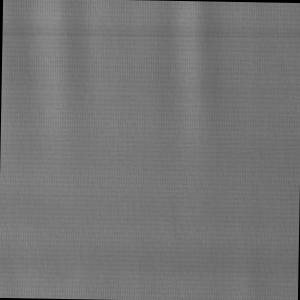Wrinkle: (2, 1, 240, 153)
